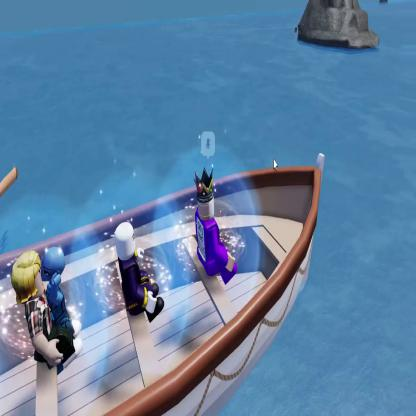Roblox-Avatar: (13, 251, 85, 372), (194, 167, 239, 286), (116, 223, 165, 324), (43, 249, 74, 376)
